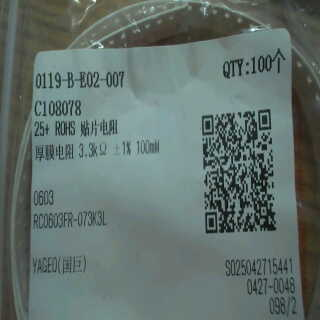3.3kO: (77, 136, 110, 162)
